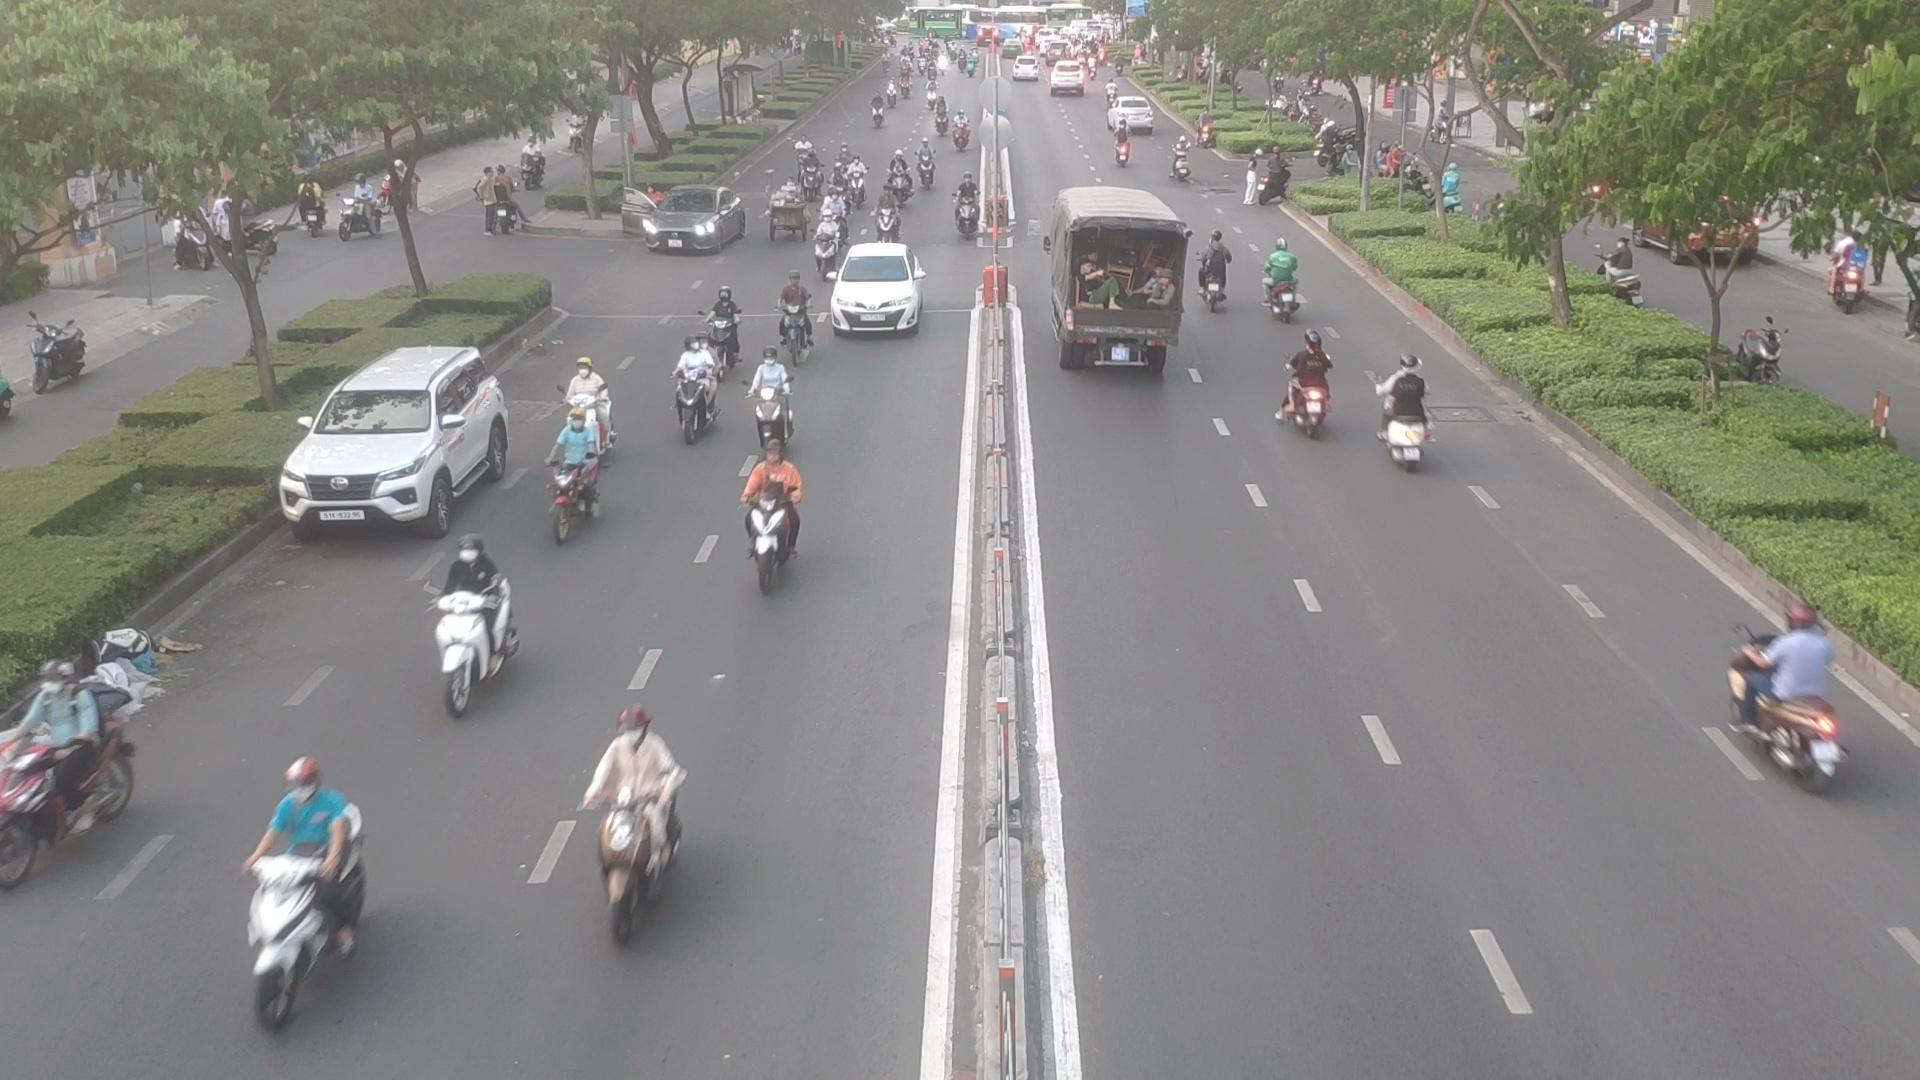car: (286, 349, 524, 541), (829, 248, 928, 342), (621, 191, 750, 258)
motorbike: (232, 764, 371, 1021), (575, 711, 702, 940), (0, 670, 131, 890), (1716, 607, 1859, 800), (423, 539, 516, 712), (735, 450, 818, 596), (539, 401, 617, 542), (1382, 357, 1443, 472), (1276, 334, 1337, 430), (673, 342, 727, 444), (1254, 237, 1313, 322), (1195, 225, 1245, 313), (742, 356, 796, 436), (777, 277, 822, 363), (700, 287, 748, 361), (559, 357, 615, 409), (769, 193, 810, 245), (953, 189, 986, 243), (815, 222, 849, 270), (872, 199, 905, 243), (882, 161, 913, 206), (1167, 142, 1197, 185), (1105, 132, 1135, 171), (800, 160, 828, 200), (918, 144, 942, 186)
